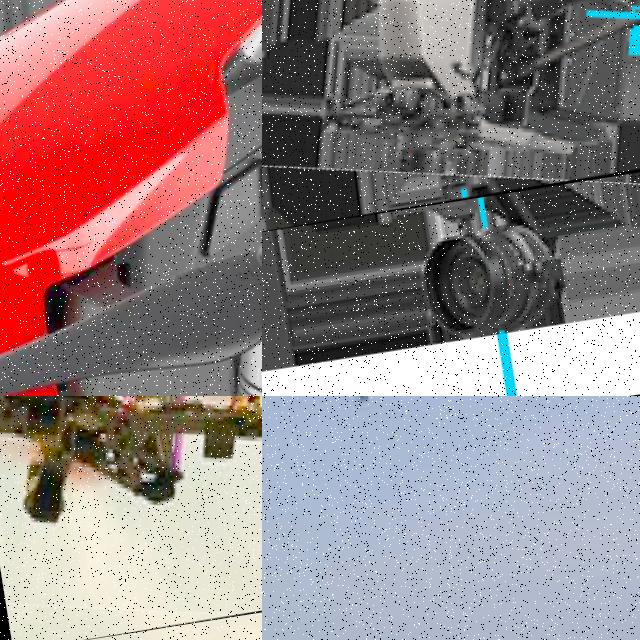drone: (0, 0, 262, 396), (262, 0, 640, 251), (0, 396, 262, 640)
